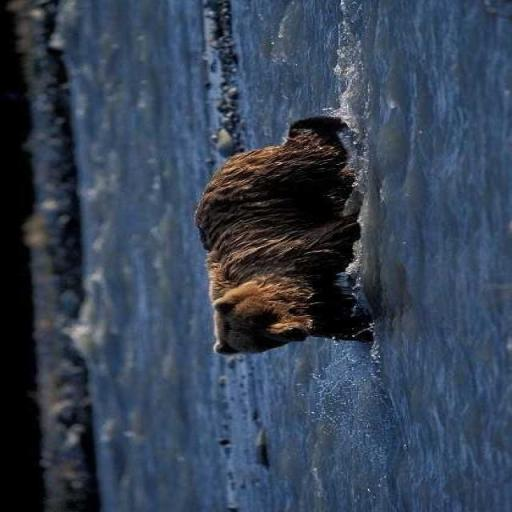Bear: (193, 114, 374, 356)
